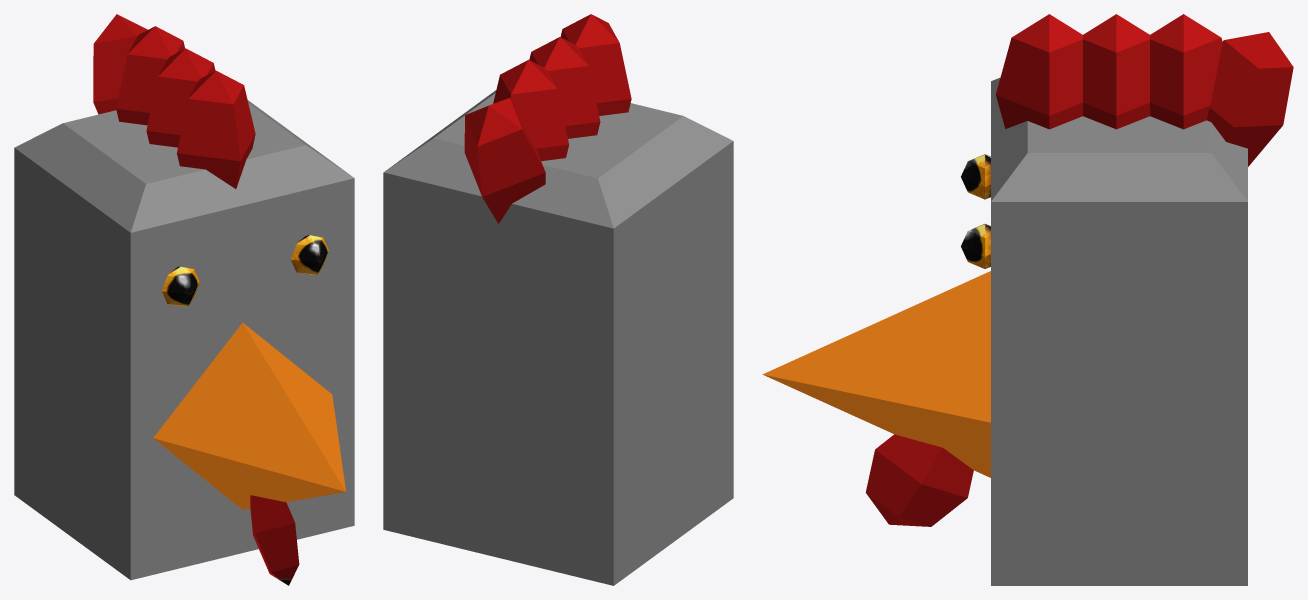
The model's file is Gallina_cabeza (1).fbx.
3 views of the same model, side by side, from view 1: azimuth 30°, elevation 25°; view 2: azimuth 150°, elevation 25°; view 3: azimuth 270°, elevation 25° (orthographic). The views are drawn at different scales.
Visible parts, largest first — view 1: Cabeza; view 2: Cabeza; view 3: Cabeza.
Boxes of the visible parts, left/top/right/bottom form: Cabeza: left=14, top=14, right=354, bottom=585; Cabeza: left=383, top=14, right=733, bottom=585; Cabeza: left=762, top=14, right=1293, bottom=585.
Size of the model in its own units: 2.4 by 4.75 by 4.46.
